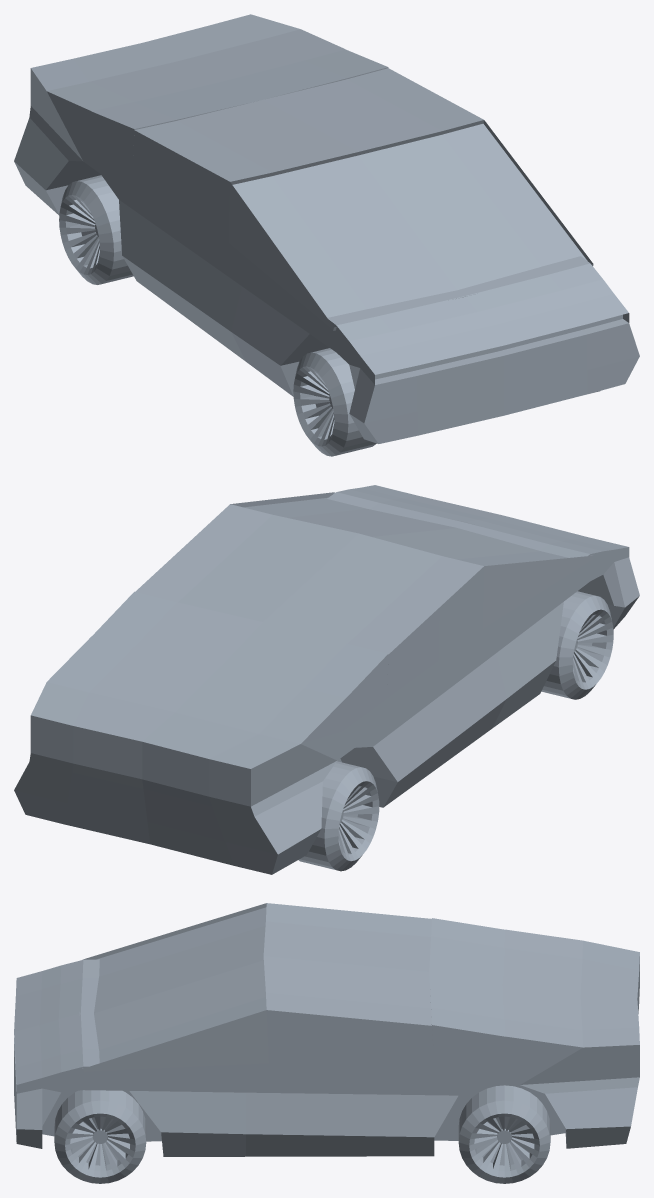
The model's file is cybertruck low poly.fbx.
3 renders of one model, top to bottom at view 1: azimuth 30°, elevation 25°; view 2: azimuth 150°, elevation 25°; view 3: azimuth 270°, elevation 25°, orthographic. The views are drawn at different scales.
Parts seen in each view (by area): view 1: CybertruckBody, backWheels, frontWheels; view 2: CybertruckBody, backWheels, frontWheels; view 3: CybertruckBody, backWheels, frontWheels.
Part boxes in pixels (<box>): CybertruckBody: <box>14,14,639,443</box>; backWheels: <box>59,175,133,284</box>; frontWheels: <box>293,348,599,456</box>; CybertruckBody: <box>14,485,639,874</box>; backWheels: <box>298,761,379,871</box>; frontWheels: <box>541,591,613,699</box>; CybertruckBody: <box>14,903,639,1156</box>; backWheels: <box>458,1085,550,1183</box>; frontWheels: <box>54,1090,146,1183</box>.
Size of the model in its own units: 210 by 143 by 471.
